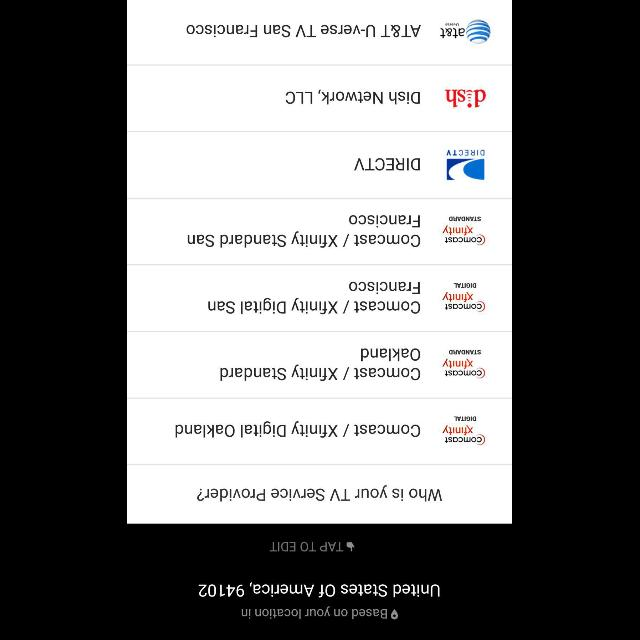icon: (391, 608, 399, 620)
image: (441, 19, 492, 45), (442, 349, 486, 379), (442, 415, 486, 445), (446, 149, 486, 181), (442, 217, 486, 246), (444, 282, 486, 312), (445, 90, 487, 108), (347, 542, 355, 552)
text: (188, 214, 422, 248), (221, 348, 421, 382), (209, 282, 421, 314), (176, 420, 420, 438), (198, 484, 442, 502), (199, 582, 441, 598), (186, 24, 422, 38), (286, 89, 422, 105), (242, 606, 388, 618), (355, 157, 421, 170), (270, 542, 344, 552)
